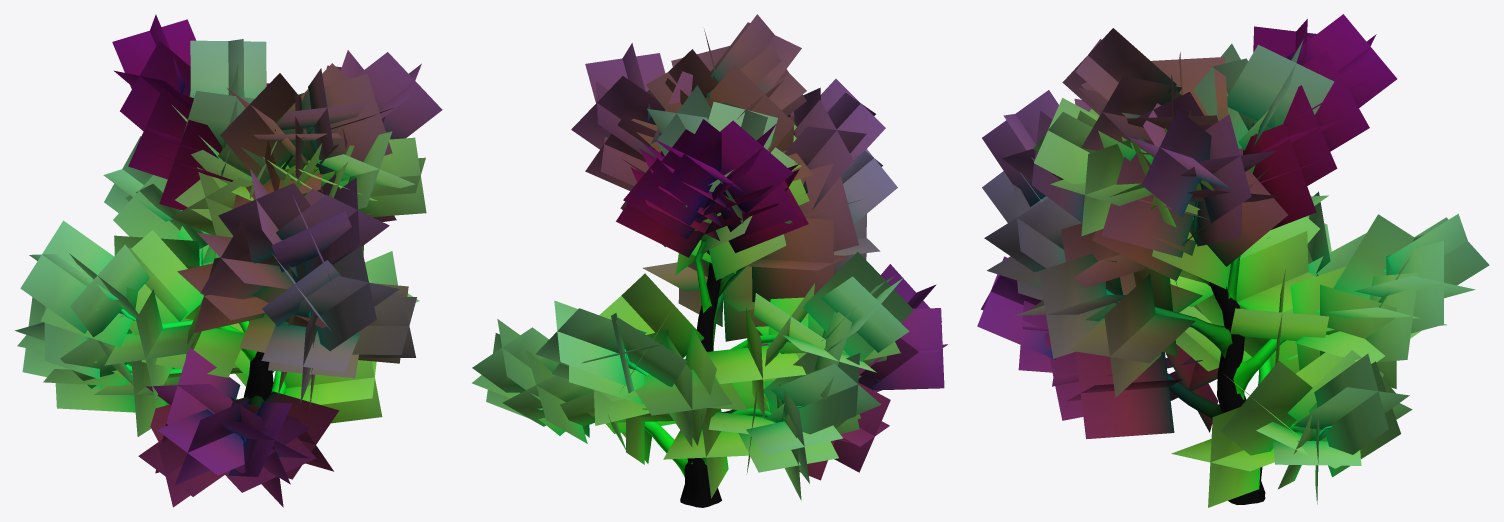
File: URP_P11_Tree_7_LOD_1.fbx
The picture shows the model from 3 angles, left to right: view 1: azimuth 30°, elevation 25°; view 2: azimuth 150°, elevation 25°; view 3: azimuth 270°, elevation 25°; orthographic projection. The views are drawn at different scales.
Parts seen in each view (by area): view 1: Tree_7_LOD_1; view 2: Tree_7_LOD_1; view 3: Tree_7_LOD_1.
Boxes of the visible parts, x1,y1,x2,y2 form: Tree_7_LOD_1: [15, 14, 442, 507]; Tree_7_LOD_1: [472, 14, 947, 507]; Tree_7_LOD_1: [977, 14, 1489, 507].
Size of the model in its own units: 588 by 618 by 611.
